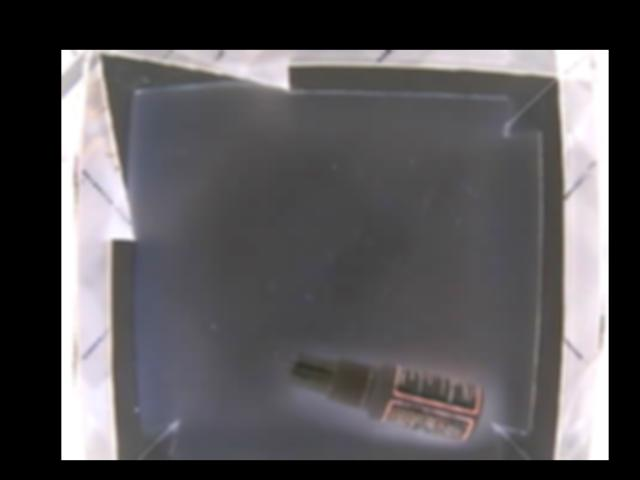Bottle: (289, 352, 481, 440)
